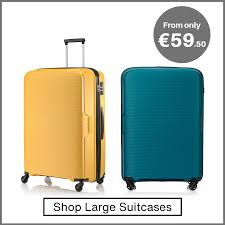suitcase: (19, 35, 108, 193), (115, 63, 206, 193)
